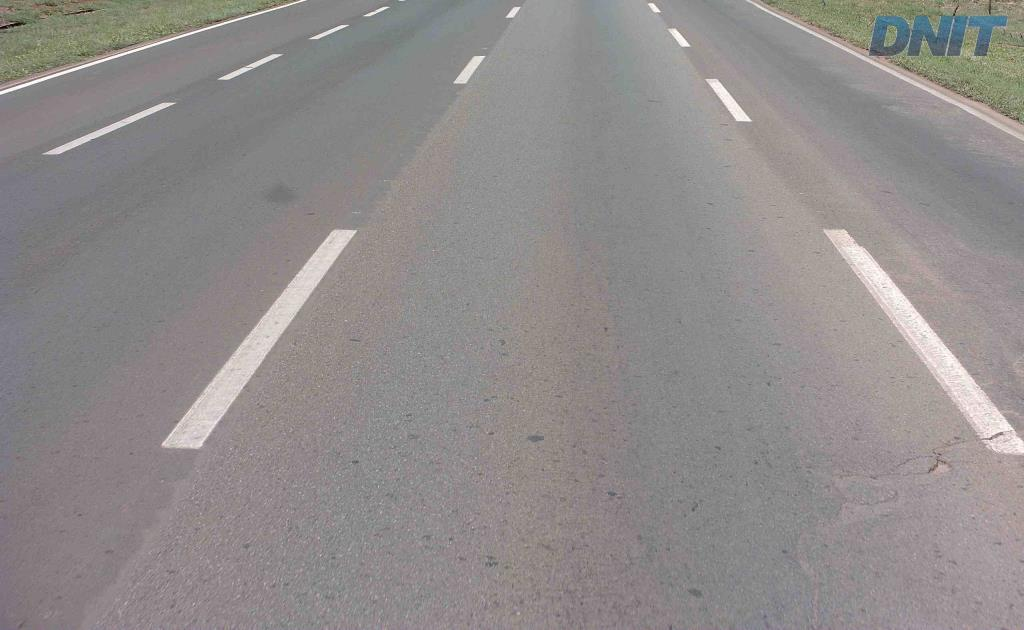pothole: (918, 453, 955, 479)
